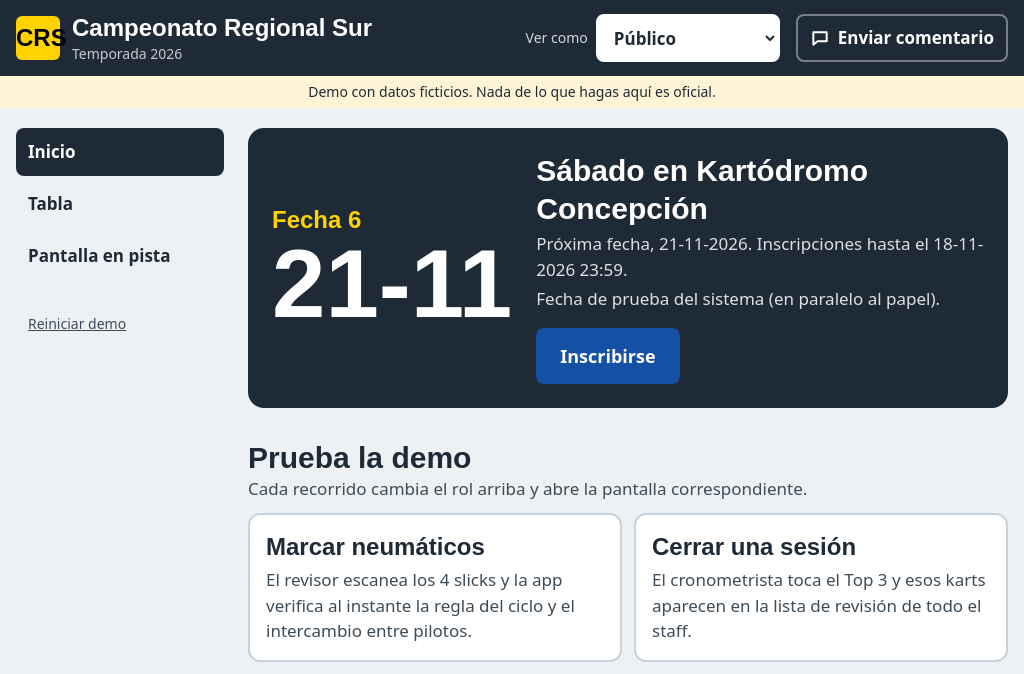
Test: acciones ocultas a roles sin el permiso (QA, SPEC 4.2 y 11.1) › P-7: sin results.enter (director de carrera) no se ofrece ingresar el Top N
Select "Admin" in the dropdown labelled "Ver como": (688, 38) left=596, top=14, right=780, bottom=62
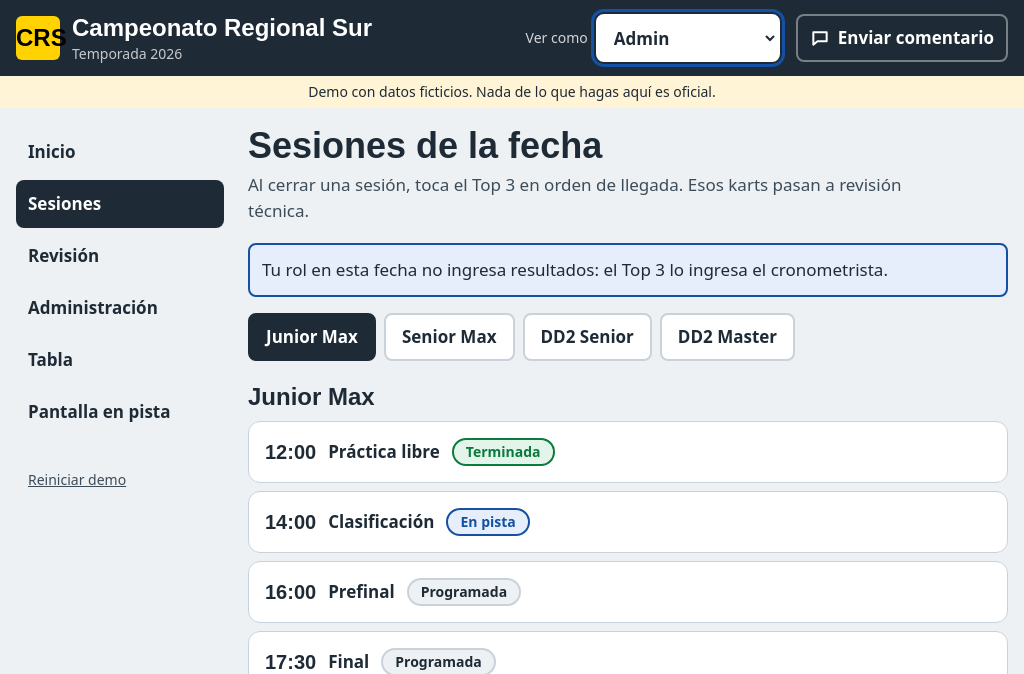
Check: the text "Tu rol en esta fecha no ingresa resultados" is shown, box left=262, top=258, right=655, bottom=281
